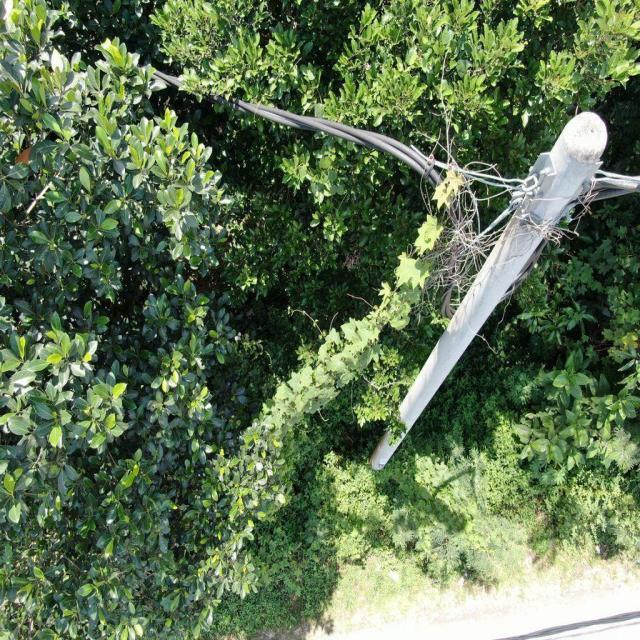critical vegetation: (213, 154, 475, 499)
